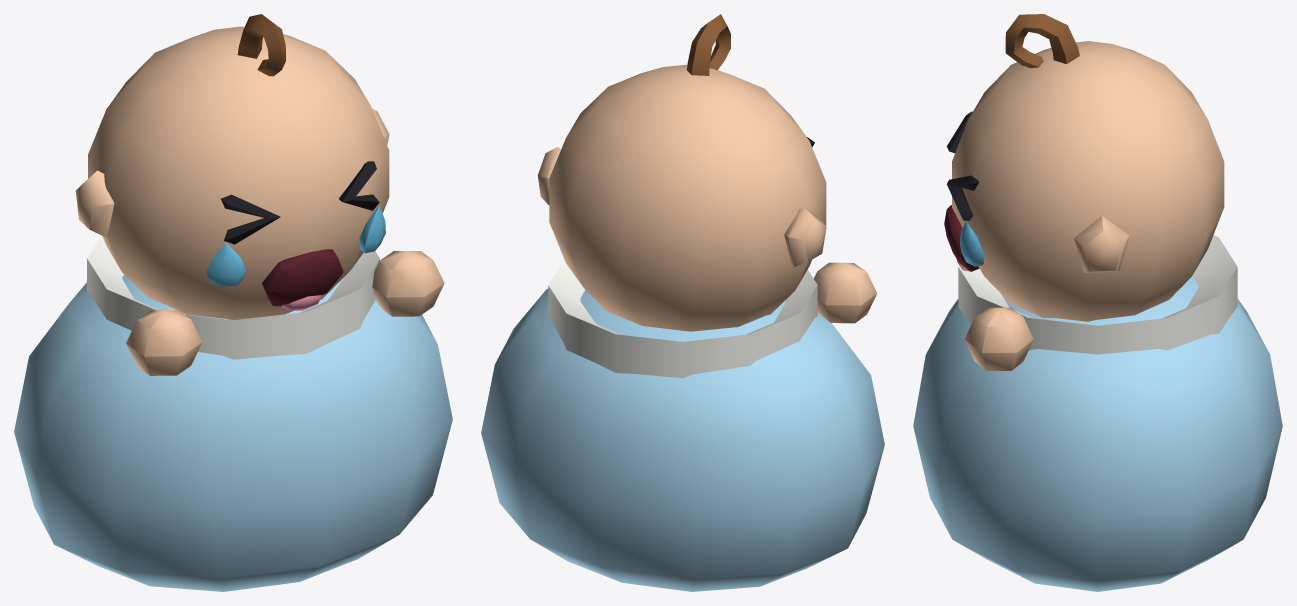
Rendered from Bebe.fbx.
3 renders of one model, left to right at view 1: azimuth 30°, elevation 25°; view 2: azimuth 150°, elevation 25°; view 3: azimuth 270°, elevation 25°, orthographic. The views are drawn at different scales.
Parts seen in each view (by area): view 1: Bebe; view 2: Bebe; view 3: Bebe.
Boxes of the visible parts, <box> form: Bebe: <box>14,14,452,591</box>; Bebe: <box>481,14,884,591</box>; Bebe: <box>913,14,1282,591</box>.
Size of the model in its own units: 0.88 by 1.15 by 0.748.
Materials: 1 (1 with a texture image).
